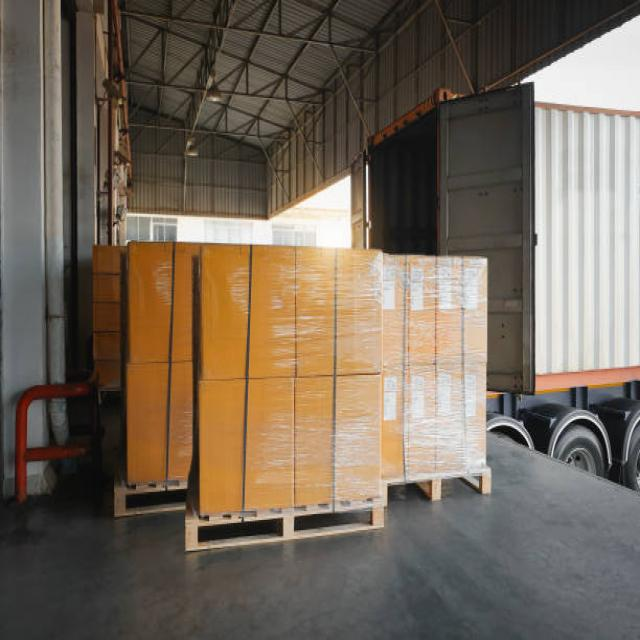Wooden-Pallets: (113, 463, 492, 557), (174, 494, 384, 557), (385, 463, 494, 513)
